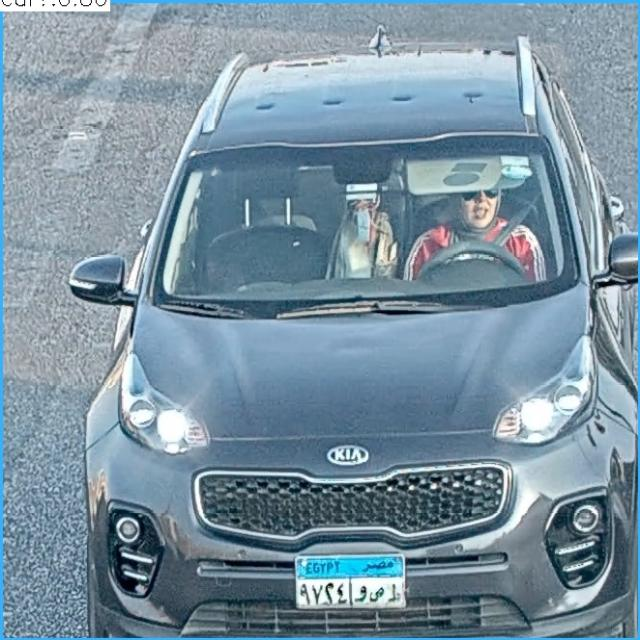windshield: (156, 153, 573, 292)
